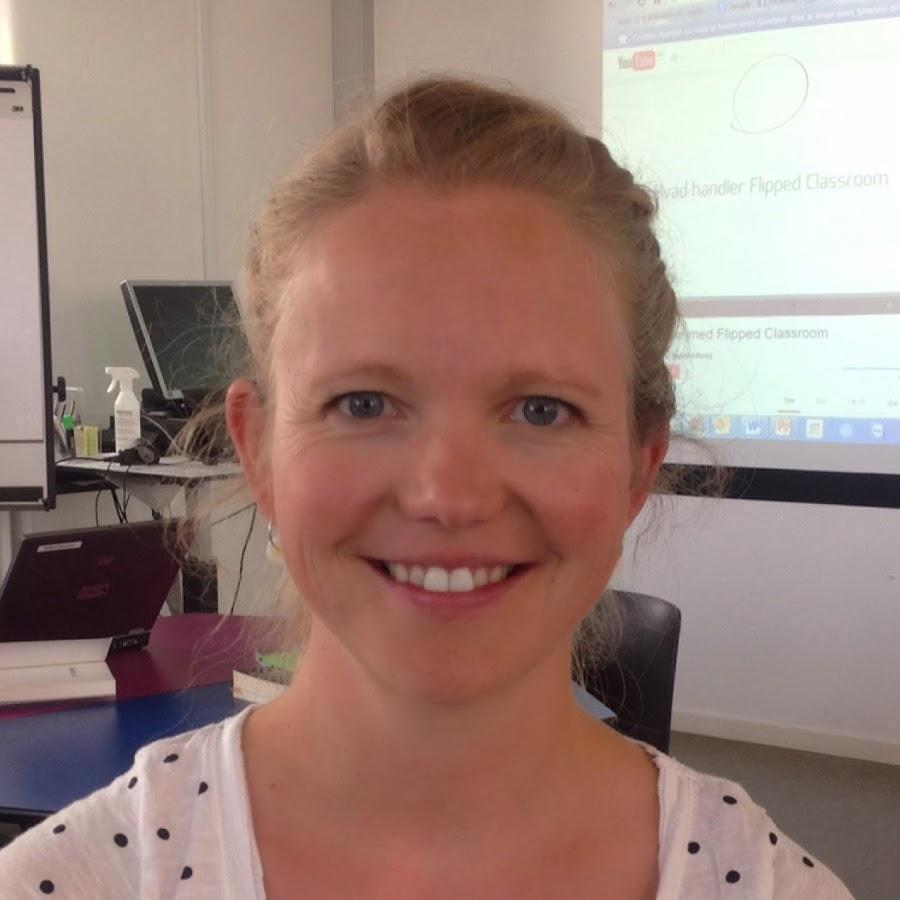Ear-protection: (0, 0, 745, 883)
